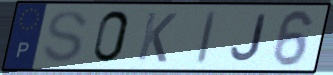0: (91, 9, 131, 66)
6: (270, 8, 315, 69)
I: (194, 9, 220, 66)
J: (228, 12, 269, 63)
K: (135, 10, 179, 64)
S: (40, 9, 91, 65)
